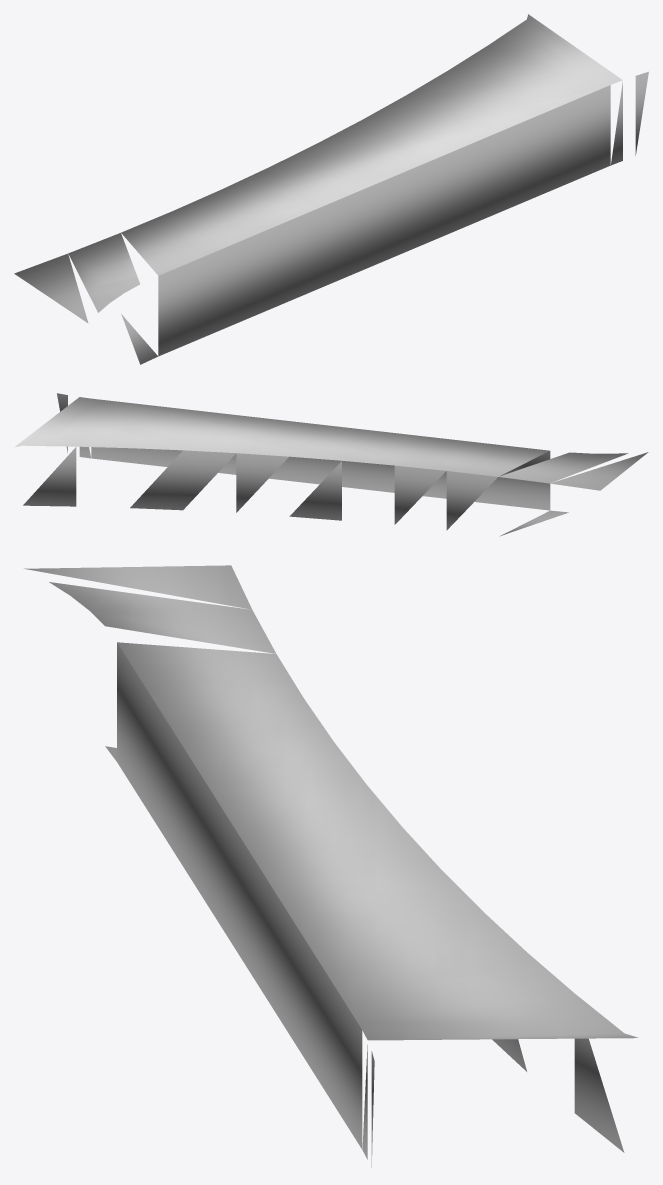
The picture shows the model from 3 angles, top to bottom: view 1: azimuth 30°, elevation 25°; view 2: azimuth 150°, elevation 25°; view 3: azimuth 270°, elevation 25°; orthographic projection. The views are drawn at different scales.
Bounding box in the file's own units: 0.3245 × 0.0366 × 0.1706.
